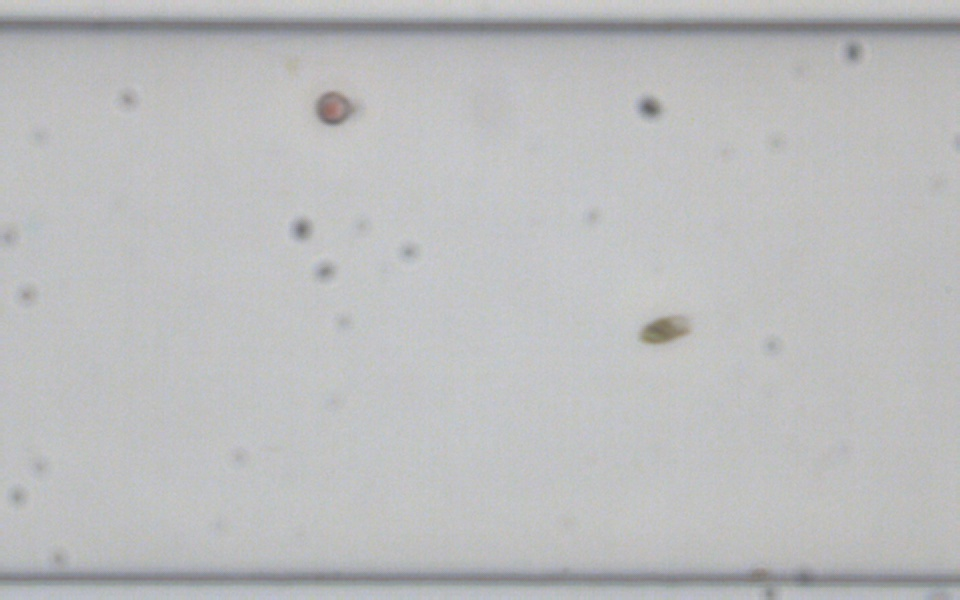Dunaliella salina: (635, 312, 693, 346)
Porphyridium: (313, 88, 350, 125)
